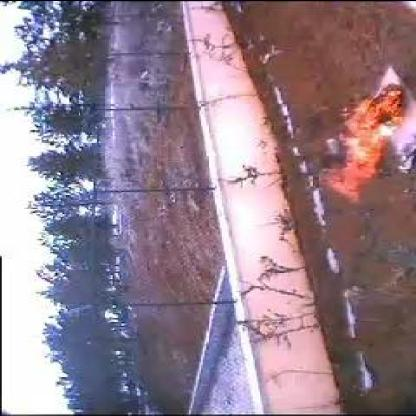-: (310, 150, 340, 167)
foggia-v2-map80-epoch100 - v1 4323: (328, 83, 406, 197)
